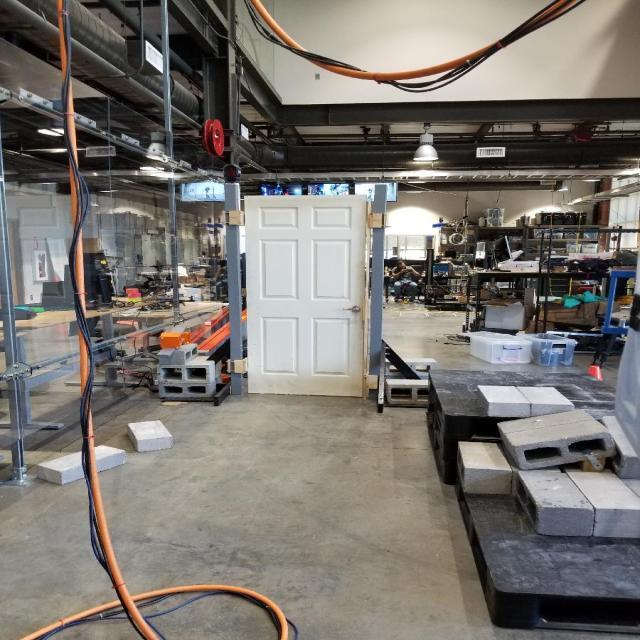door: (240, 190, 370, 403), (341, 304, 364, 316)
